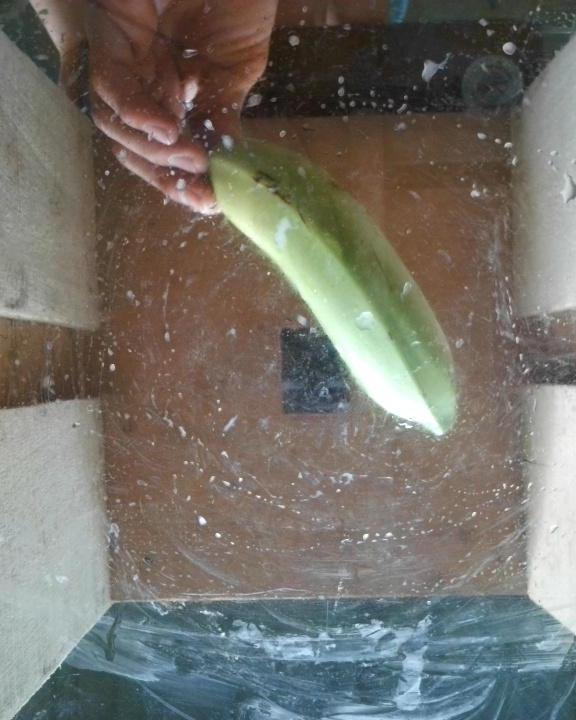CLASS B: (198, 133, 468, 440)
Class A: (240, 158, 315, 231)
